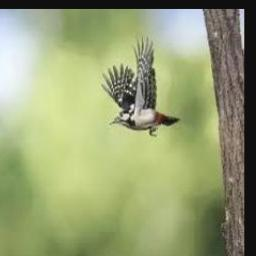Woodpecker: (100, 33, 179, 136)
